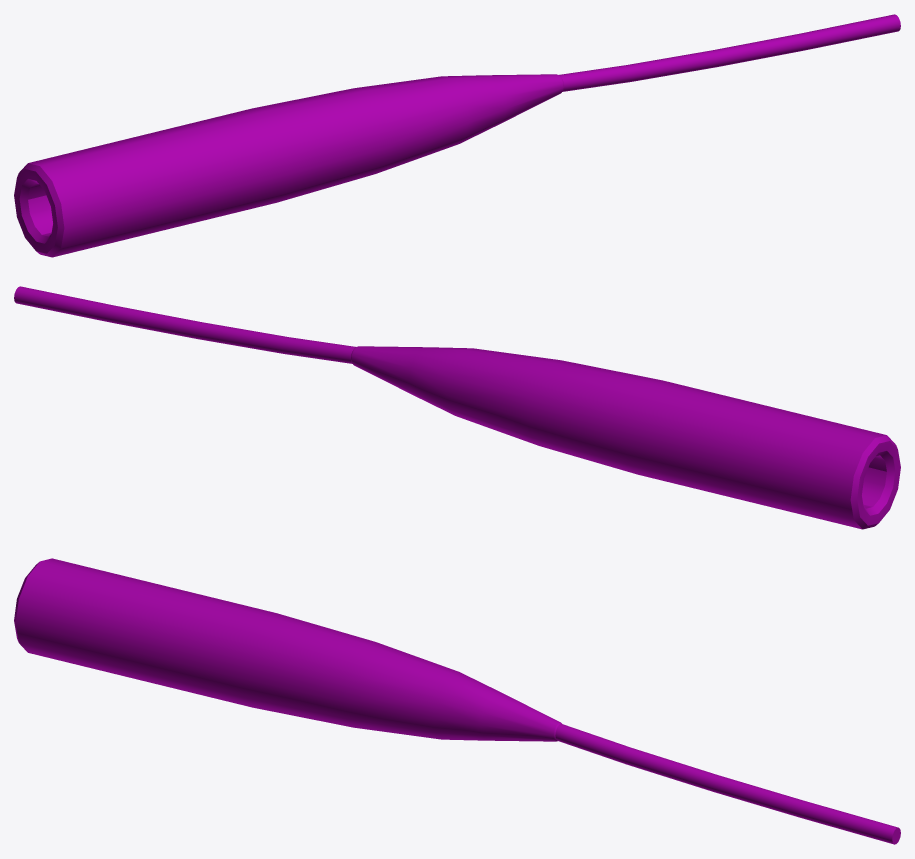
Rendered from Tools_Shaver_01.fbx.
The picture shows the model from 3 angles, top to bottom: view 1: azimuth 30°, elevation 25°; view 2: azimuth 150°, elevation 25°; view 3: azimuth 330°, elevation 25°; orthographic projection.
Visible parts, largest first — view 1: Tools_Shaver_01:Tools_ShaverBase_01; view 2: Tools_Shaver_01:Tools_ShaverBase_01; view 3: Tools_Shaver_01:Tools_ShaverBase_01.
Boxes of the visible parts, <box> form: Tools_Shaver_01:Tools_ShaverBase_01: <box>14,14,900,257</box>; Tools_Shaver_01:Tools_ShaverBase_01: <box>14,286,900,529</box>; Tools_Shaver_01:Tools_ShaverBase_01: <box>14,558,900,844</box>.
Size of the model in its own units: 13.78 by 1.35 by 1.35.
